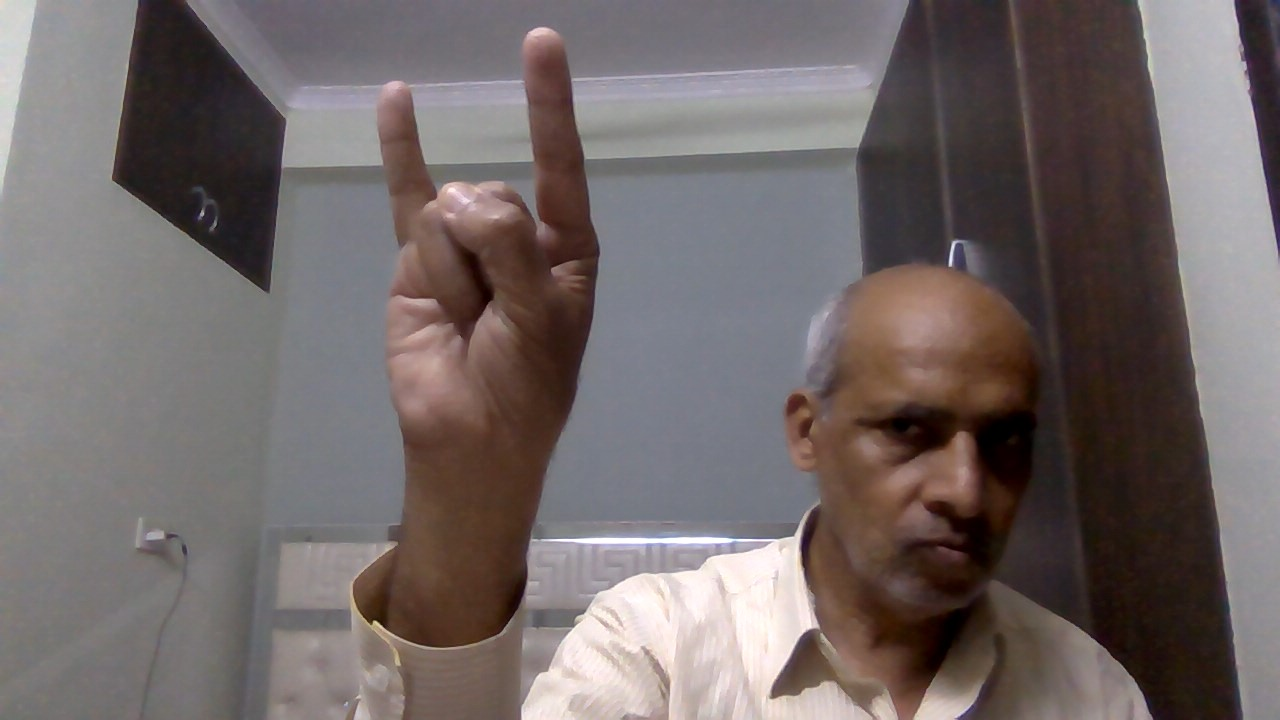Select All: (365, 17, 615, 478)
